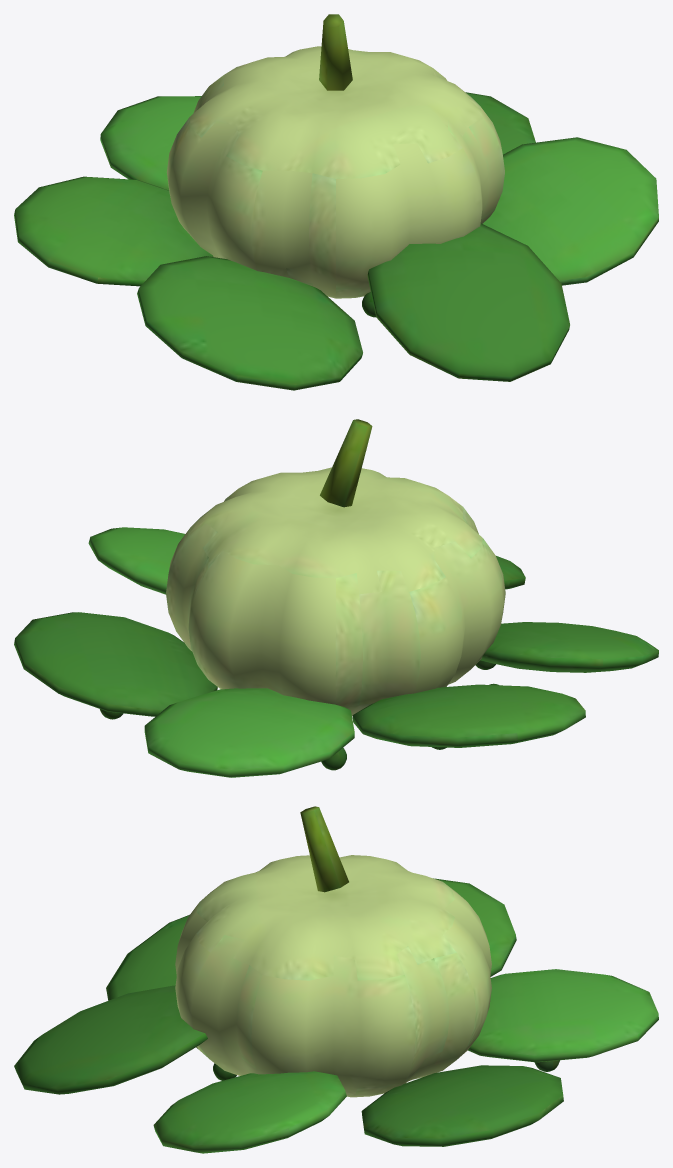
The model's file is crop_honeydew.glb.
3 views of the same model, one above another, from view 1: azimuth 30°, elevation 25°; view 2: azimuth 150°, elevation 25°; view 3: azimuth 270°, elevation 25° (orthographic). The views are drawn at different scales.
Parts seen in each view (by area): view 1: crop_honeydew, fruit; view 2: fruit, crop_honeydew; view 3: fruit, crop_honeydew.
Boxes of the visible parts, box(x1,y1,x2,y2) form: crop_honeydew: box(14, 14, 658, 390); fruit: box(166, 46, 504, 298); fruit: box(166, 467, 505, 715); crop_honeydew: box(14, 419, 658, 777); fruit: box(175, 855, 491, 1097); crop_honeydew: box(14, 806, 658, 1153).
Bounding box in the file's own units: 0.3718 × 0.1749 × 0.3914.
1 material, 1 textured.
